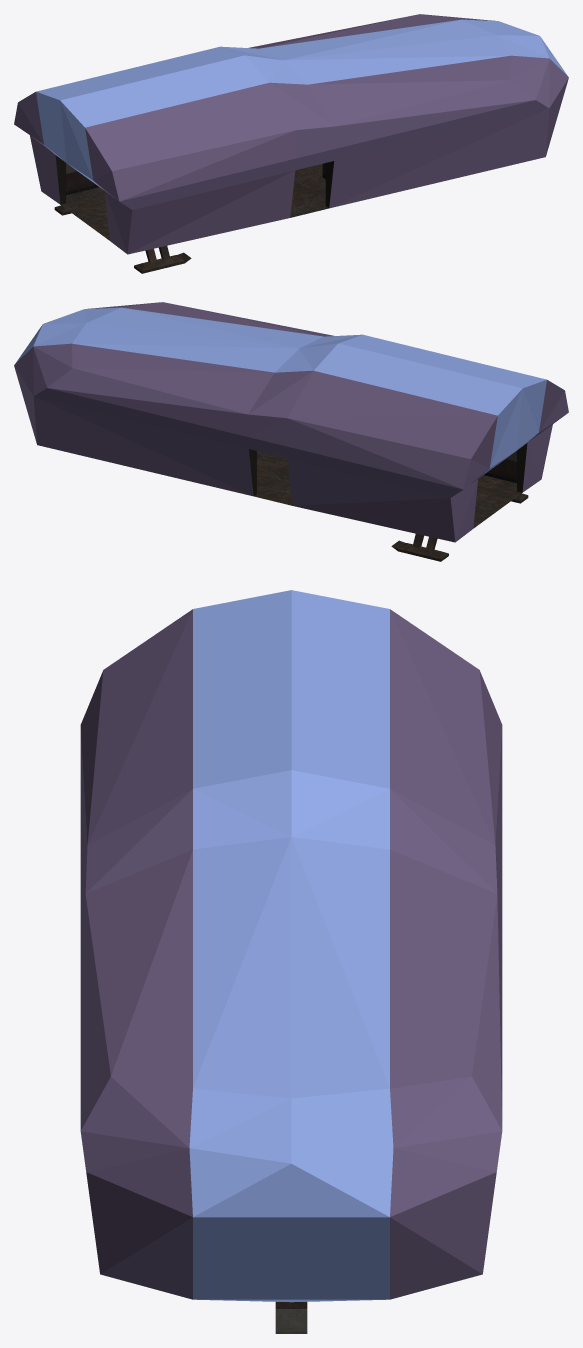
Rendered from Ship.glb.
The picture shows the model from 3 angles, top to bottom: view 1: azimuth 30°, elevation 25°; view 2: azimuth 150°, elevation 25°; view 3: azimuth 270°, elevation 25°; orthographic projection. The views are drawn at different scales.
Visible parts, largest first — view 1: Chassis, LandingGear.Front; view 2: Chassis, LandingGear.Front; view 3: Chassis, LandingGear.Front.001.
Boxes of the visible parts, <box> form: Chassis: <box>14,14,568,254</box>; LandingGear.Front: <box>54,205,191,273</box>; Chassis: <box>14,302,568,542</box>; LandingGear.Front: <box>391,493,528,561</box>; Chassis: <box>80,590,502,1302</box>; LandingGear.Front.001: <box>275,1302,307,1333</box>.
Bounding box in the file's own units: 48.02 × 14.29 × 18.11.
12 materials, 10 textured.
